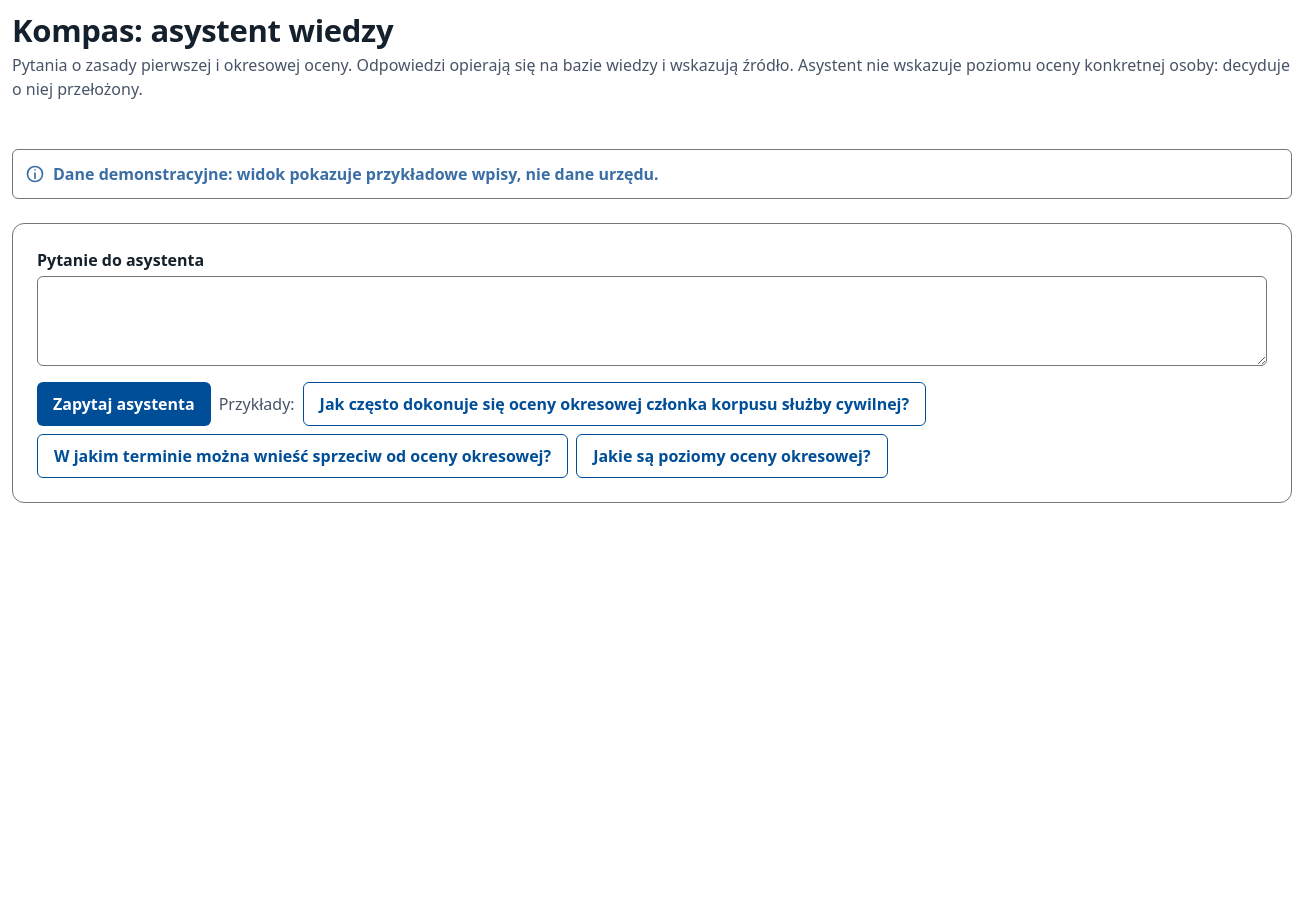
Test: AssistantPage › says it did not find the answer when the backend returns null
The width and height of the screenshot is (1304, 912).
Type "Jaka jest stolica Francji?" into the text box labelled "Pytanie do asystenta". click: (652, 321)
box: x1=37 y1=276 x2=1267 y2=366
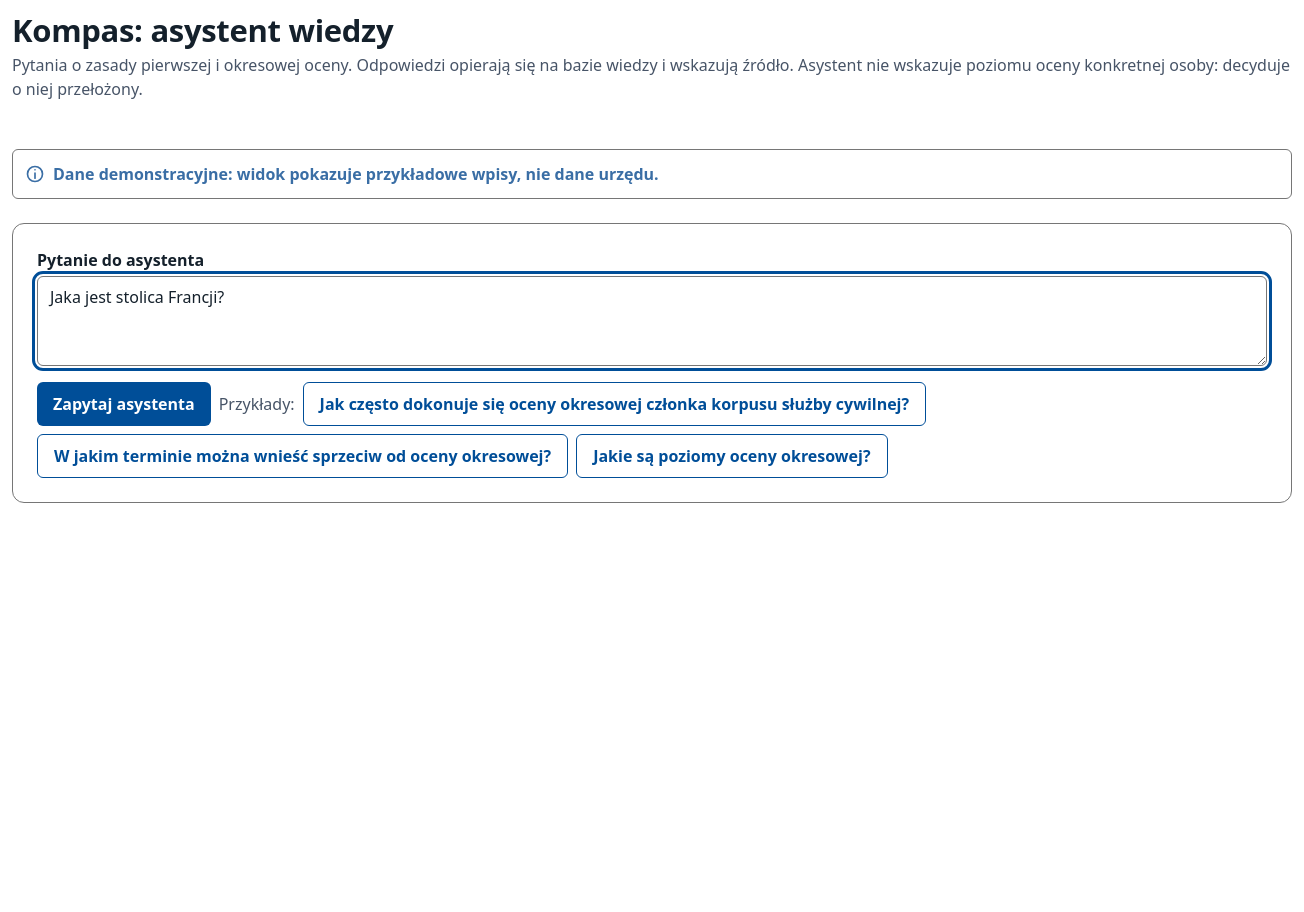
Click the button "Zapytaj asystenta". click: (124, 404)
box: x1=37 y1=382 x2=211 y2=426
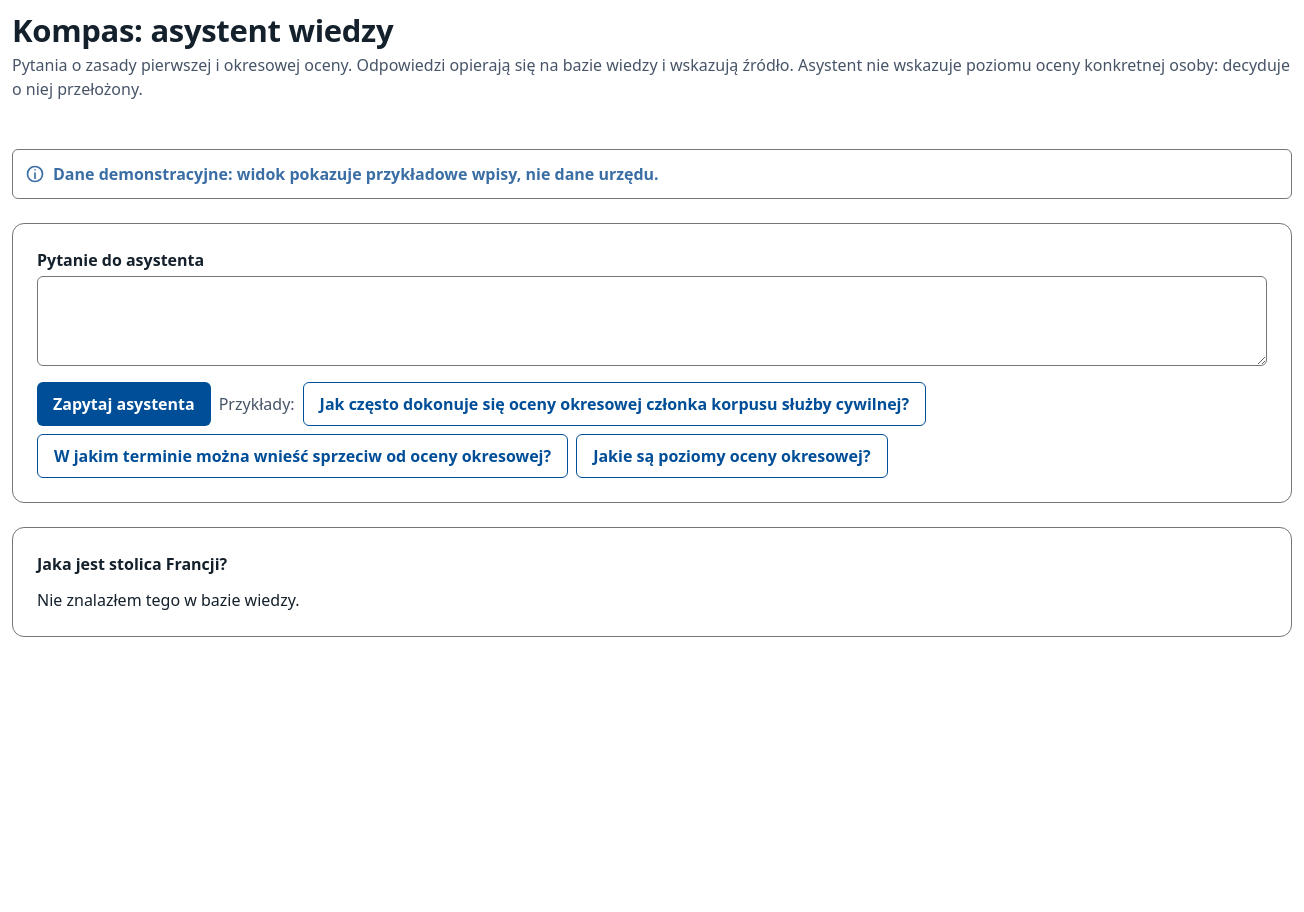
Expected: the text "Nie znalazłem tego w bazie wiedzy." is shown, x1=37 y1=589 x2=300 y2=611
